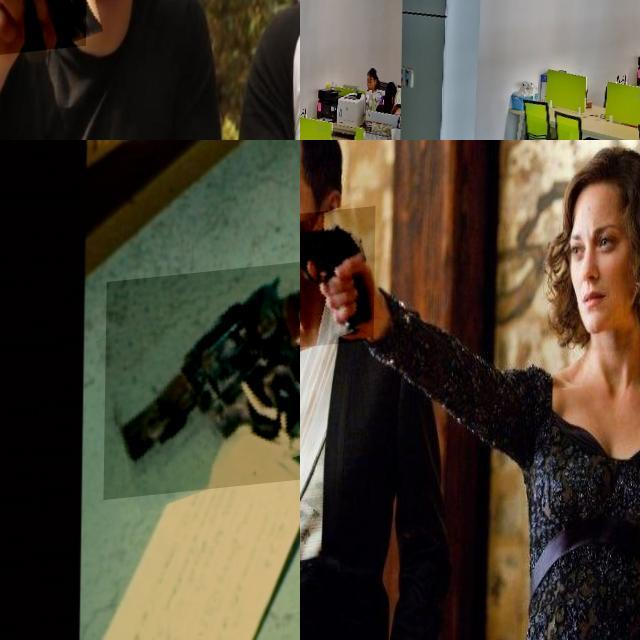-: (0, 0, 90, 136)
gun-knife-thesis - v11 Yolov5 augmented: (104, 258, 300, 502), (300, 210, 376, 352), (510, 0, 548, 37), (300, 76, 321, 140), (300, 0, 327, 37)
